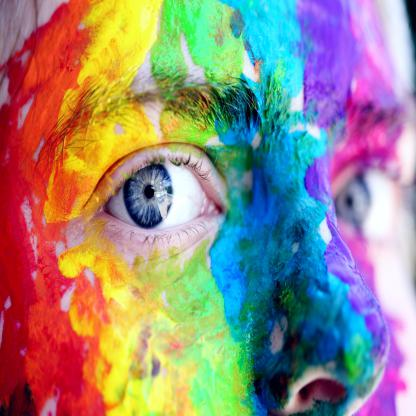Eye: (74, 130, 242, 271), (329, 146, 410, 268)
Nose: (250, 131, 391, 416)
